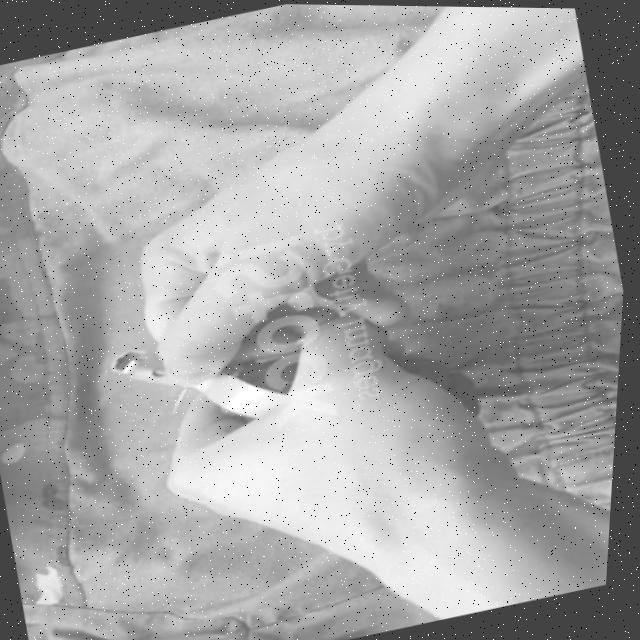grenade: (91, 265, 496, 518)
